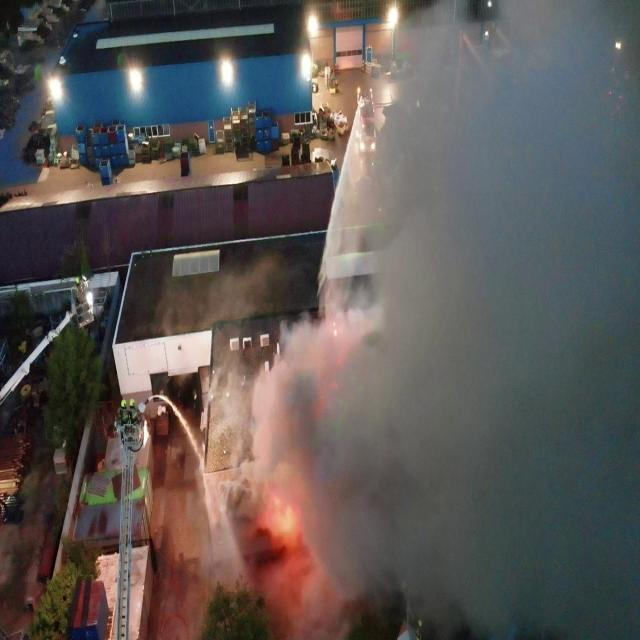Fire: (334, 329, 337, 335)
Smoke: (196, 0, 639, 640), (156, 257, 272, 334)
